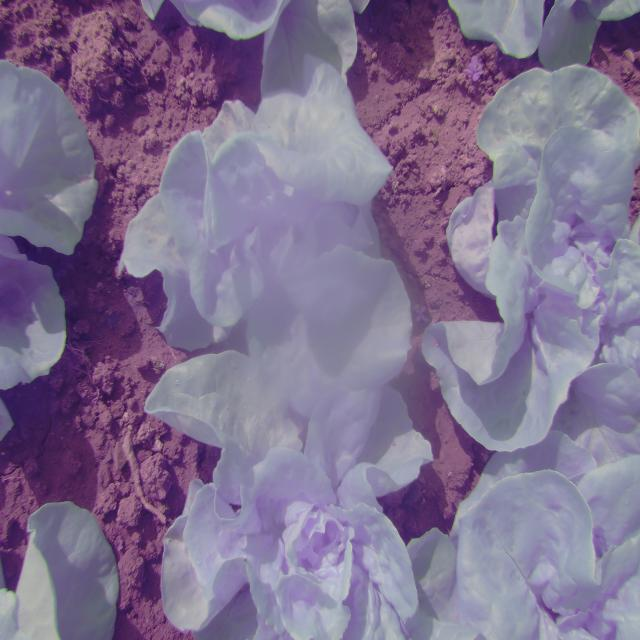vege: (120, 76, 416, 431)
